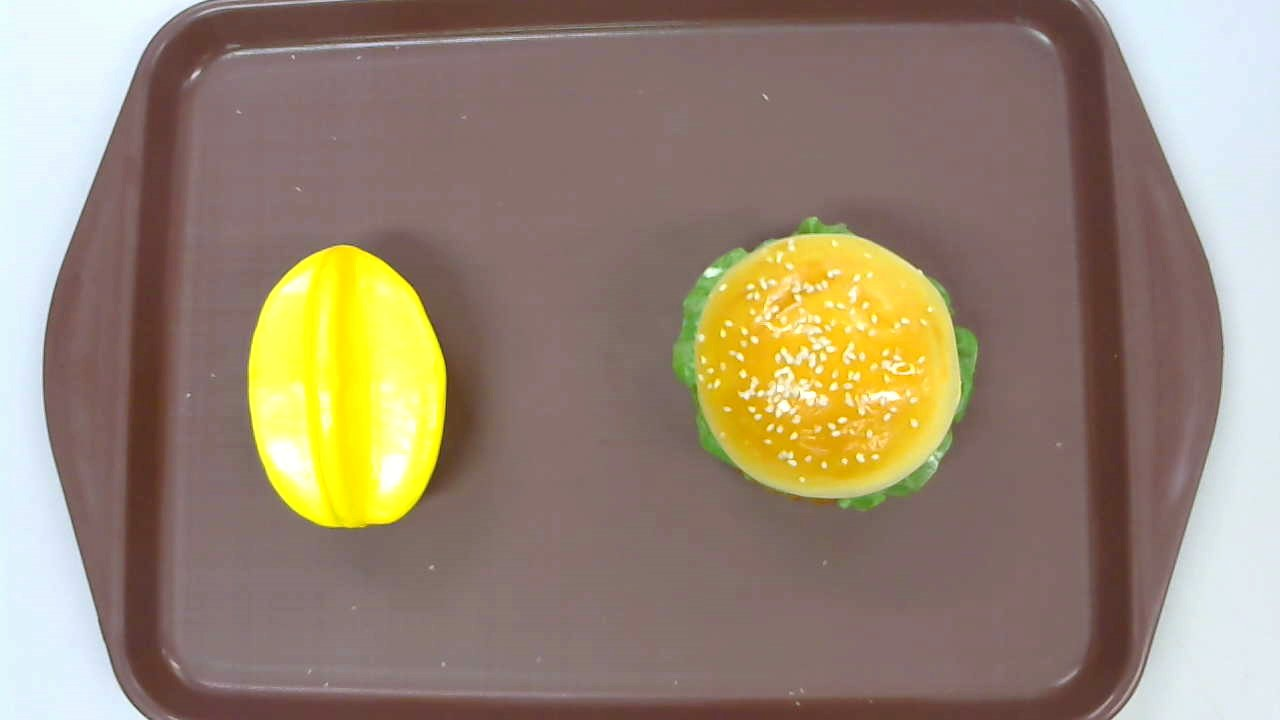hamburger: (673, 216, 982, 511)
star fruit: (248, 245, 447, 532)
